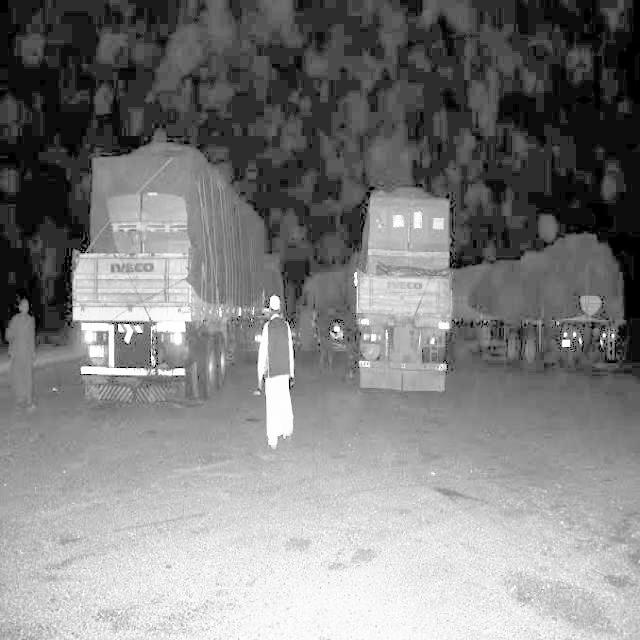Truck: (69, 139, 252, 407), (354, 187, 453, 394)
